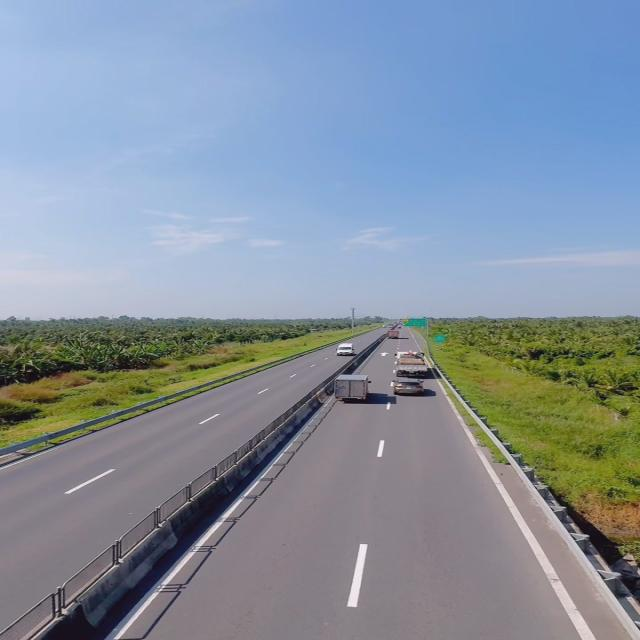car: (386, 376, 425, 398)
truck: (391, 347, 430, 376), (336, 370, 372, 400)
